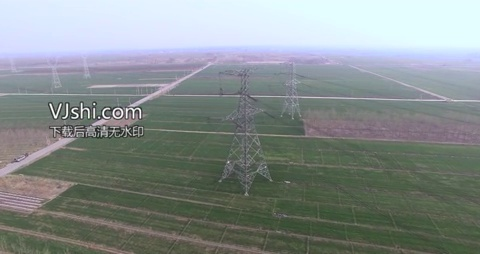tower_body: (214, 62, 282, 199)
tower_foot: (218, 151, 276, 196)
tower_head: (219, 66, 272, 80)
